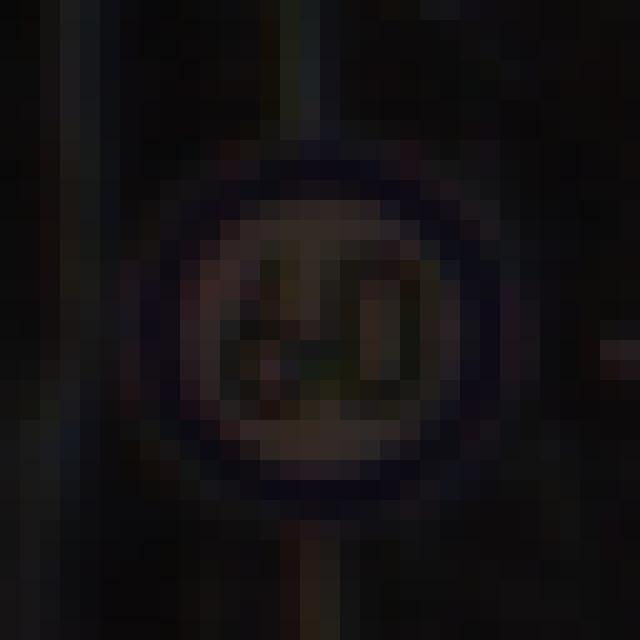SPEED-LIMIT-60: (116, 120, 543, 511)
